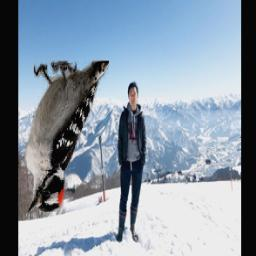Woodpecker: (24, 60, 109, 213)
